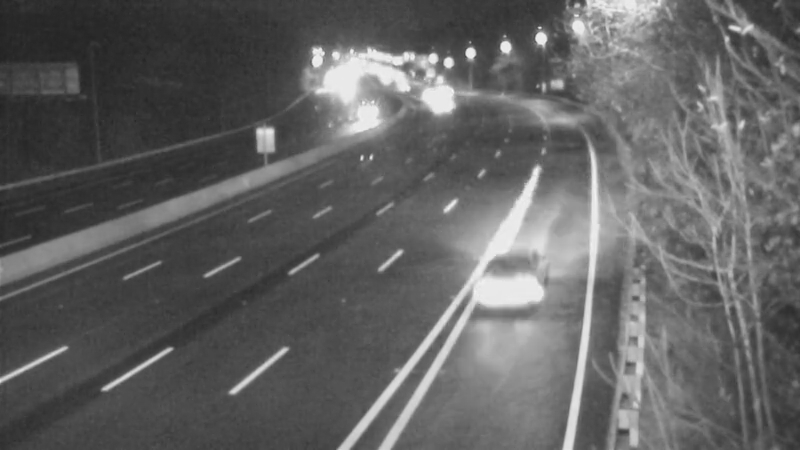vehicle: (467, 252, 547, 332), (406, 73, 456, 123), (417, 83, 467, 133), (333, 96, 383, 146)
